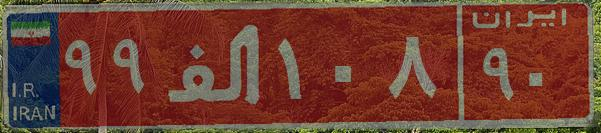0: (330, 28, 385, 110), (525, 38, 570, 115)
1: (273, 28, 330, 110)
8: (385, 28, 445, 110)
9: (57, 26, 110, 107), (475, 38, 525, 113), (110, 28, 158, 105)
الف: (158, 15, 273, 115)
